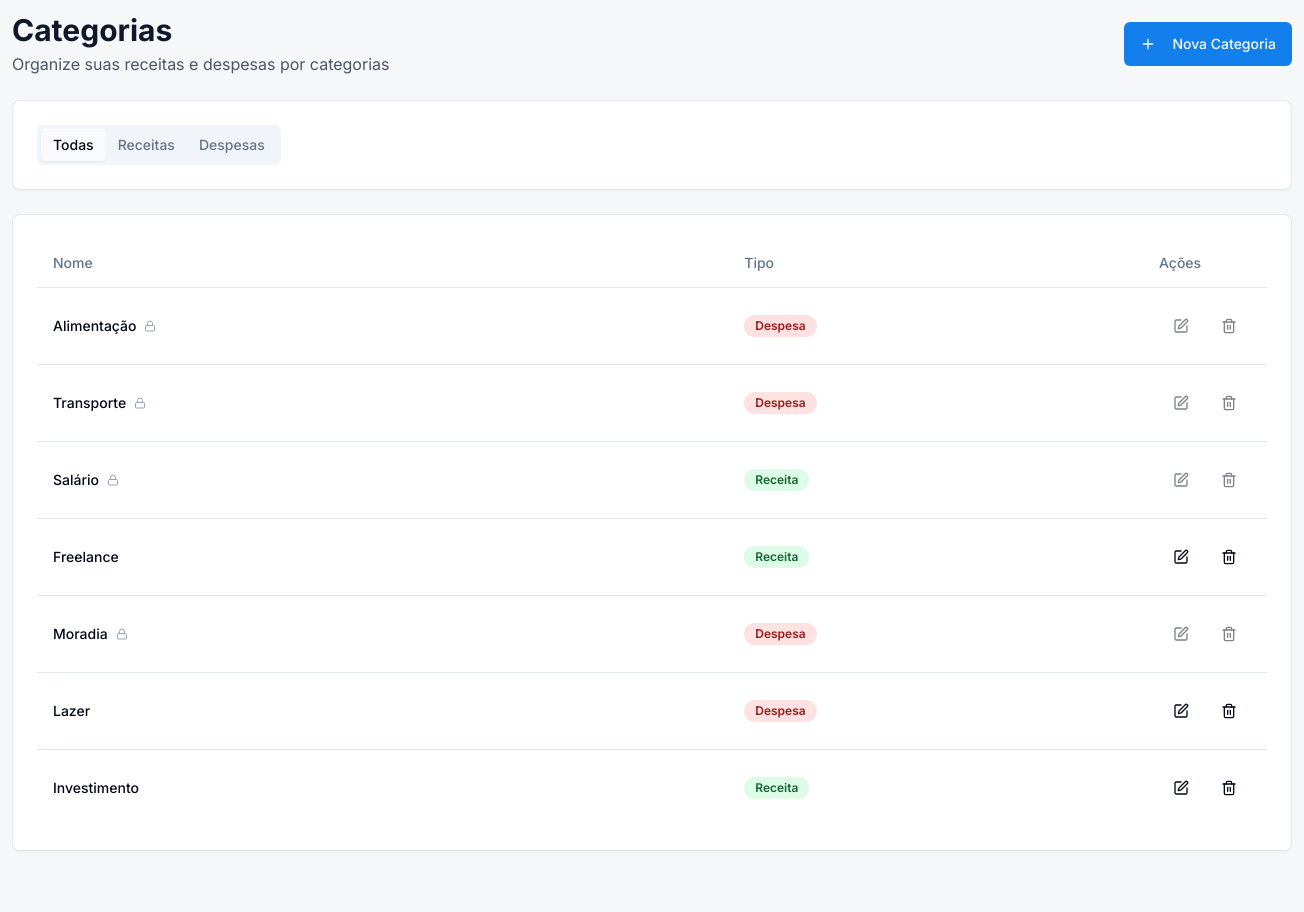
Scenario: CategoriesPage › shows all categories when "Todas" filter is selected
This screenshot has width=1304, height=912.
Check: the text "Alimentação" is shown, box [53, 316, 156, 334]
Primeiro filtra por Receitas
Click the tab "Receitas": (146, 145) [106, 129, 187, 161]
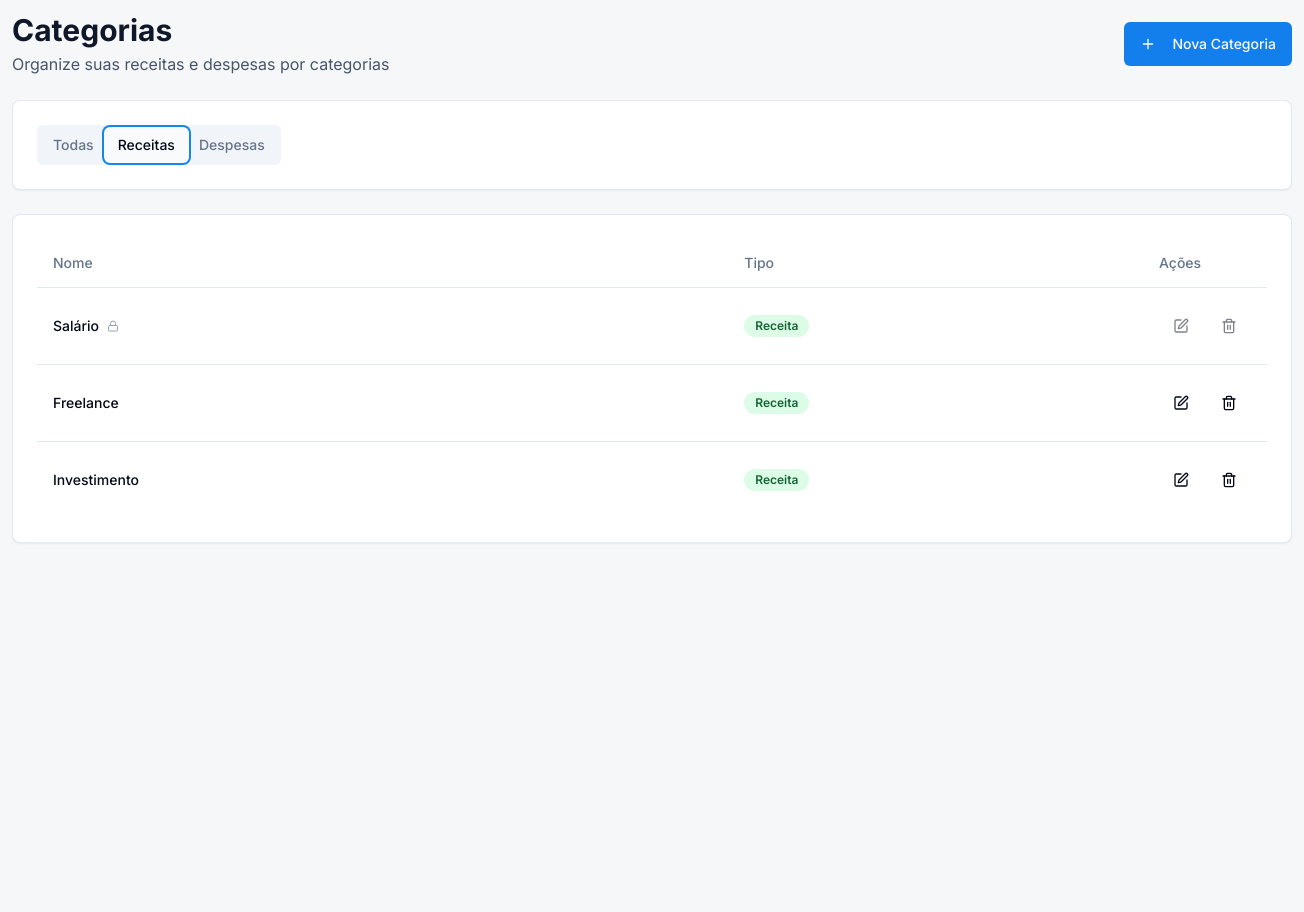
Check: the text "Alimentação" is gone
Depois volta para Todas
Click the tab "Todas": (73, 145) [41, 129, 106, 161]
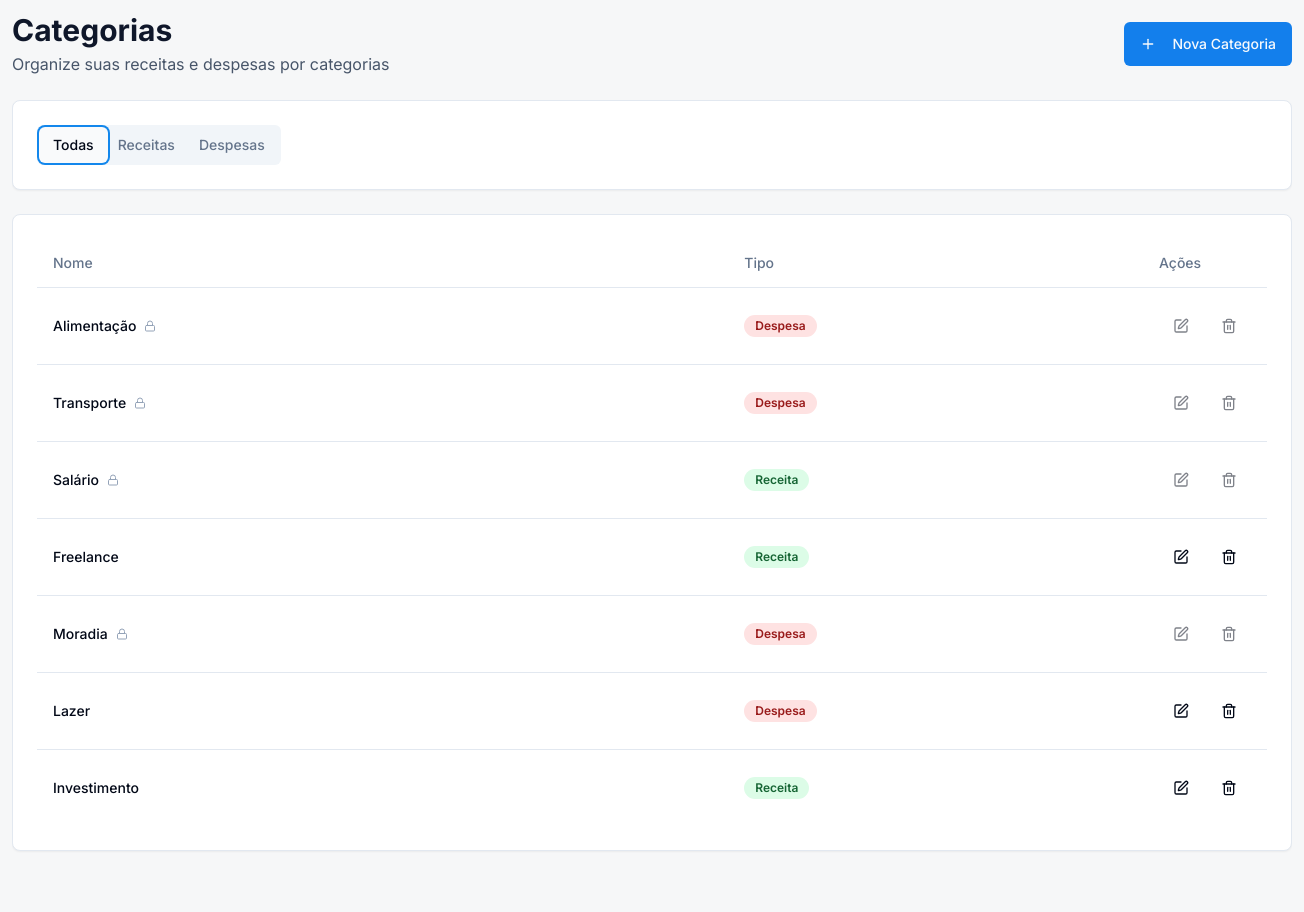
Check: the text "Salário" is shown, box [53, 470, 119, 488]
Check: the text "Alimentação" is shown, box [53, 316, 156, 334]
